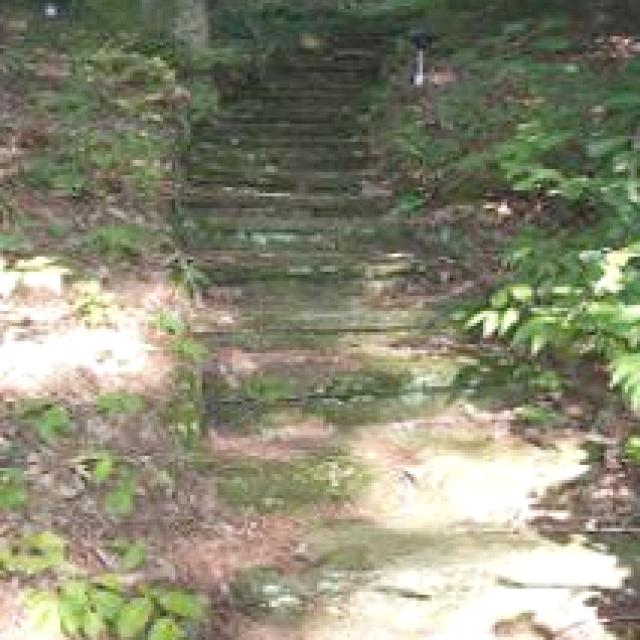upstair: (167, 194, 550, 584)
